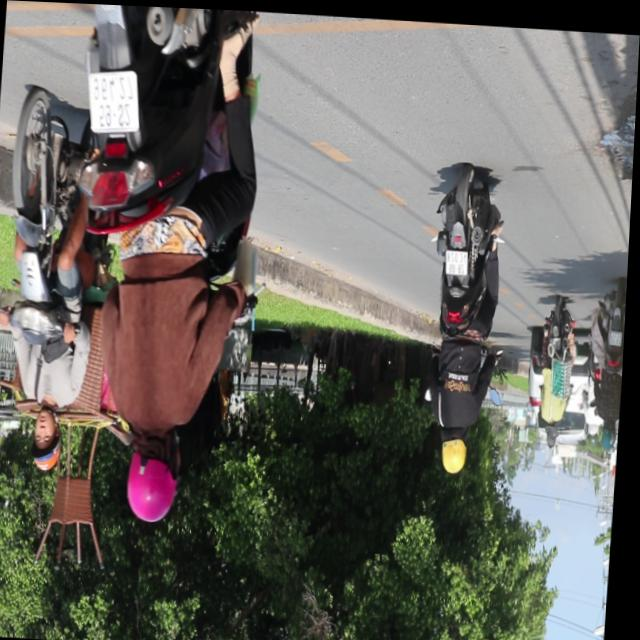helmet: (125, 425, 187, 523), (32, 404, 66, 470), (441, 424, 472, 471)
licenseplate: (47, 2, 275, 531), (0, 78, 110, 476), (417, 157, 510, 473)
nohelmet: (85, 69, 140, 133), (446, 246, 469, 271)
